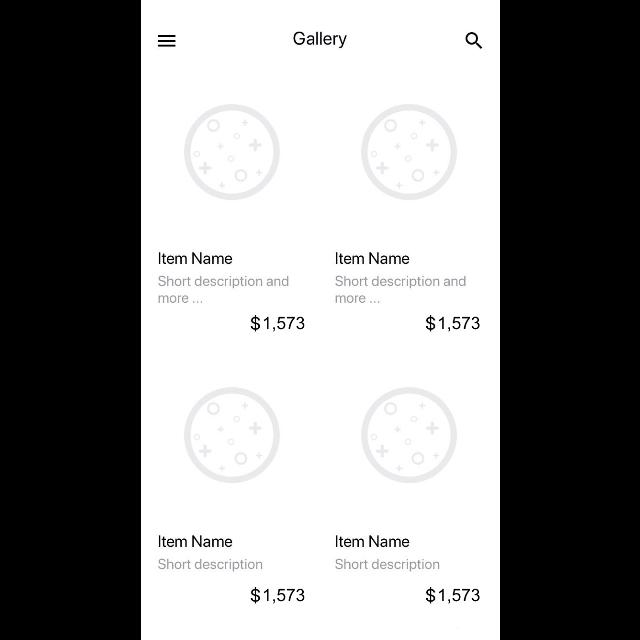icon: (466, 32, 482, 49), (157, 35, 175, 47)
image: (361, 105, 457, 201), (183, 104, 279, 200), (184, 387, 280, 483), (361, 387, 457, 483)
text: (334, 275, 466, 303), (158, 276, 288, 304), (334, 558, 440, 572), (158, 558, 262, 572), (425, 314, 479, 332), (158, 252, 232, 264), (335, 252, 409, 264), (158, 535, 232, 547), (335, 535, 409, 547), (250, 316, 304, 332), (293, 32, 347, 48), (425, 587, 479, 603), (250, 588, 304, 604)
